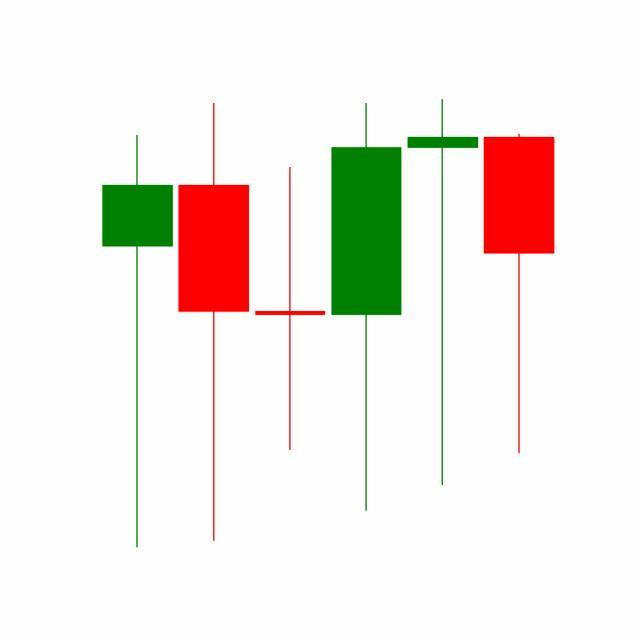Dragonfly Doji: (404, 95, 482, 490)
